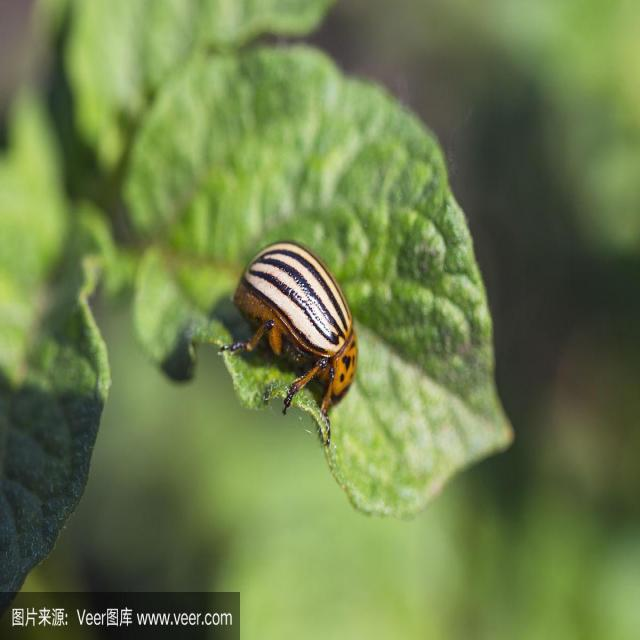ShuCaiHuaBanChong-Grown-: (211, 231, 363, 407)
